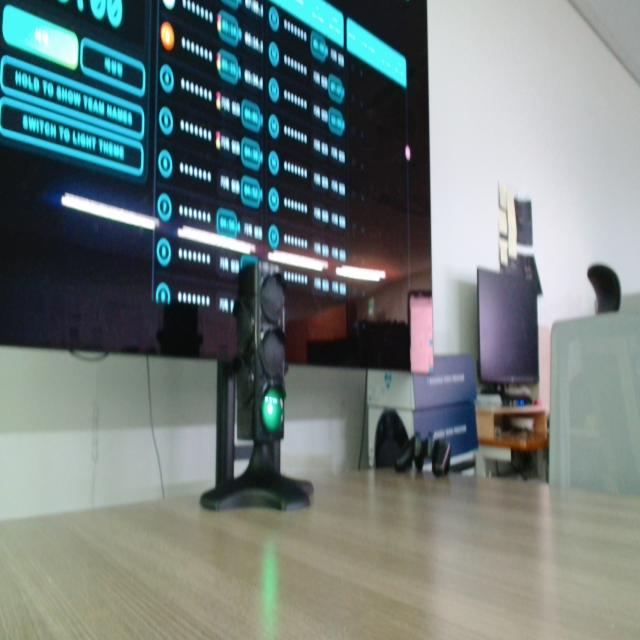green_light: (262, 388, 284, 432)
